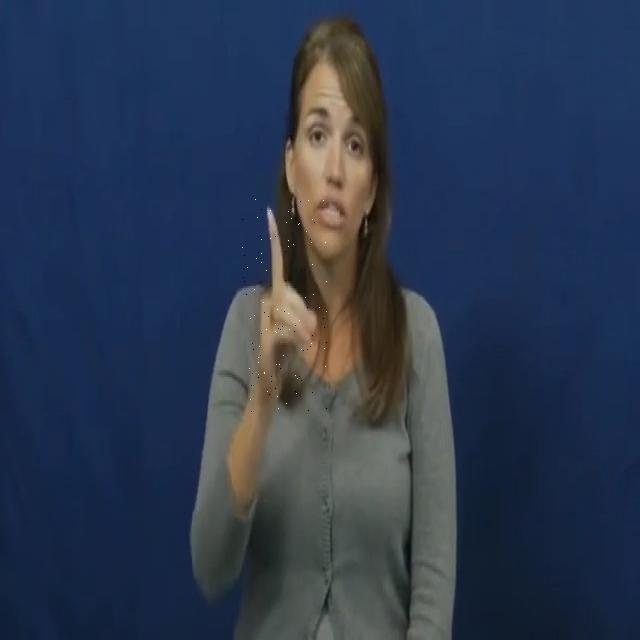would: (242, 196, 328, 413)
